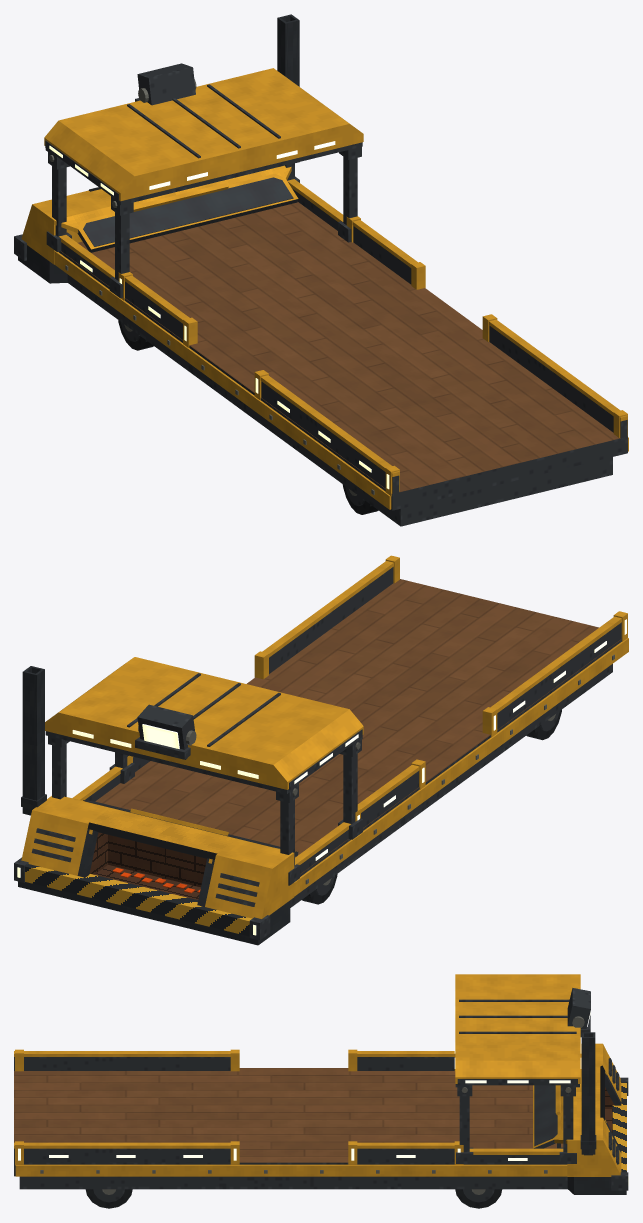
File: YardMule-Refined.fbx
3 renders of one model, top to bottom at view 1: azimuth 30°, elevation 25°; view 2: azimuth 150°, elevation 25°; view 3: azimuth 270°, elevation 25°, orthographic. The views are drawn at different scales.
Parts seen in each view (by area): view 1: Train Body, Canopy and spotlight, Wheels; view 2: Train Body, Canopy and spotlight, Wheels; view 3: Train Body, Canopy and spotlight, Wheels.
Part boxes in pixels (x1,y1,x2,y2): Train Body: [14, 14, 628, 526]; Canopy and spotlight: [44, 63, 363, 205]; Wheels: [118, 320, 378, 514]; Train Body: [14, 555, 628, 945]; Canopy and spotlight: [45, 657, 363, 793]; Wheels: [302, 709, 561, 904]; Train Body: [14, 991, 628, 1194]; Canopy and spotlight: [455, 974, 590, 1087]; Wheels: [85, 1189, 502, 1208].
Bounding box in the file's own units: 439 × 367 × 1098.
Materials: 8 (7 with a texture image).
